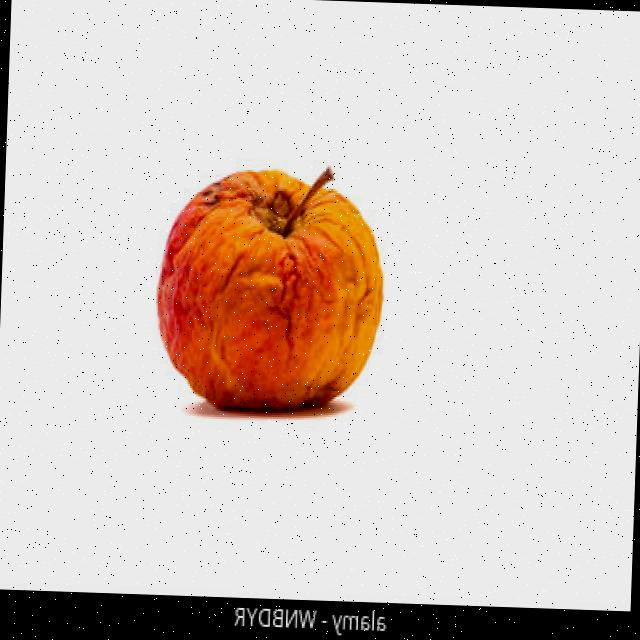overripe: (150, 161, 390, 420)
